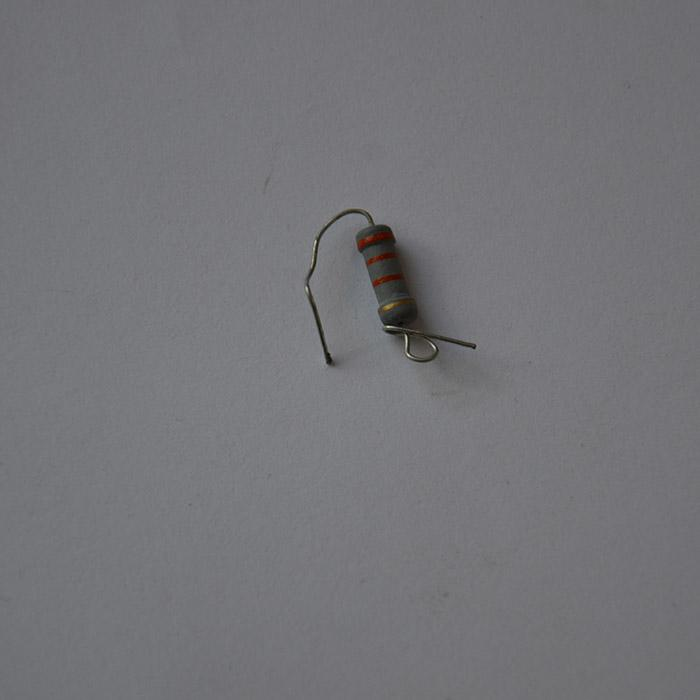resistor: (354, 224, 416, 327)
